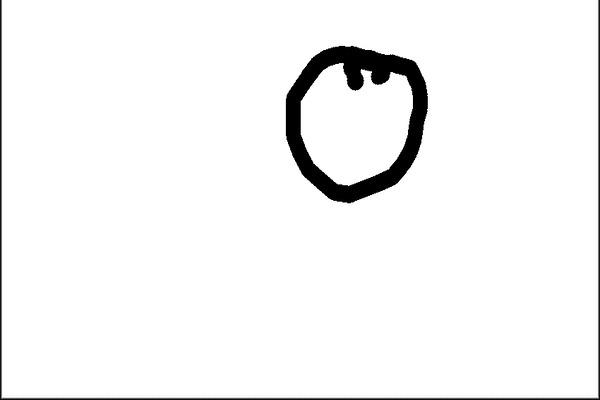O: (274, 39, 428, 202)
